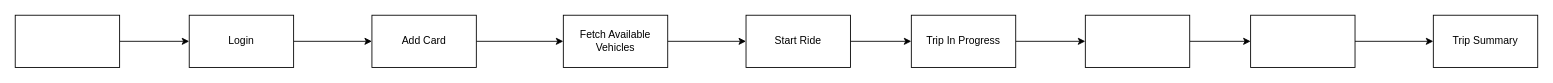
Image size: 1553x83. Some labels were removed from this diagram. The shapes that lost their labels are listed below. From the top down, each one's centre as x and y in pixels, then its label:
At [67,40]: "Singup".
At [1137,40]: "TripEnd".
At [1302,40]: "Rate the Trip".
